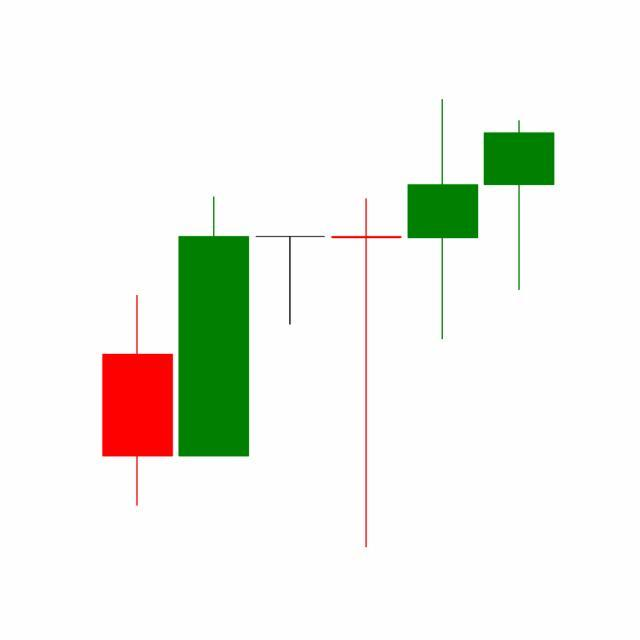Spinning Top: (404, 96, 482, 343)
